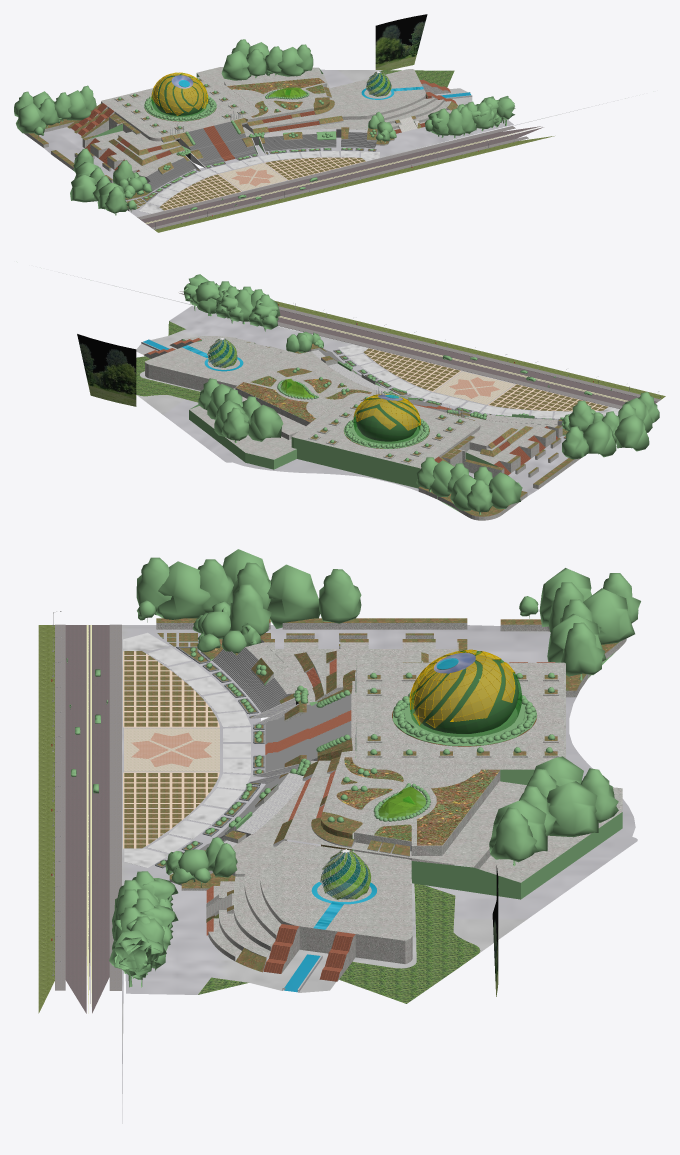
3 views of the same model, one above another, from view 1: azimuth 30°, elevation 25°; view 2: azimuth 150°, elevation 25°; view 3: azimuth 270°, elevation 25° (orthographic). The views are drawn at different scales.
Parts seen in each view (by area): view 1: empty_2, empty_3, empty_9, empty_6, empty_498, empty_55, empty_23, empty_19, empty_497, empty_28, empty_58, empty_500 (+15 smaller); view 2: empty_2, empty_3, empty_9, empty_498, empty_23, empty_6, empty_19, empty_497, empty_28, empty_4, empty_484, empty_34 (+14 smaller); view 3: empty_2, empty_3, empty_9, empty_498, empty_6, empty_23, empty_19, empty_497, empty_28, empty_11, empty_500, empty_4 (+15 smaller).
Boxes of the visible parts, x1,y1,x2,y2 form: empty_2: (14,39,515,217); empty_3: (24,67,451,211); empty_9: (39,69,628,217); empty_6: (28,78,457,208); empty_498: (141,126,543,227); empty_55: (139,121,375,191); empty_23: (78,75,450,174); empty_19: (116,79,365,210); empty_497: (138,126,528,229); empty_28: (139,151,379,213); empty_58: (71,79,456,171); empty_500: (154,136,554,232); empty_2: (182,274,659,514); empty_3: (145,336,580,520); empty_9: (58,272,619,495); empty_498: (179,291,657,405); empty_23: (144,341,534,467); empty_6: (236,342,573,516); empty_19: (310,348,607,462); empty_497: (277,306,660,409); empty_28: (338,344,619,418); empty_4: (356,397,417,441); empty_484: (77,334,120,403); empty_34: (365,348,608,411); empty_2: (66,549,640,987); empty_3: (156,623,626,977); empty_9: (122,625,637,1123); empty_498: (65,625,109,1013); empty_6: (156,618,618,972); empty_23: (226,663,563,981); empty_19: (124,648,557,848); empty_497: (55,624,121,990); empty_28: (123,632,250,867); empty_11: (339,883,480,1003); empty_500: (38,625,54,1013); empty_4: (414,654,518,733).
Bounding box in the file's own units: 442 × 39.17 × 204.
55 materials, 33 textured.
